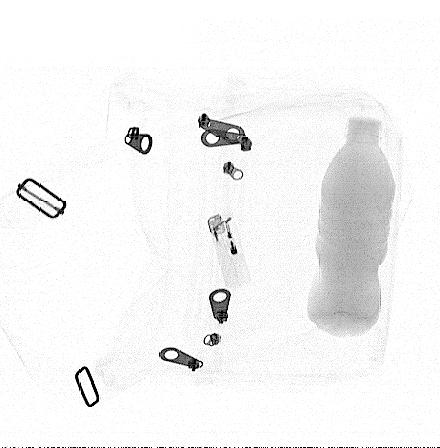Lighter: (207, 212, 251, 289)
